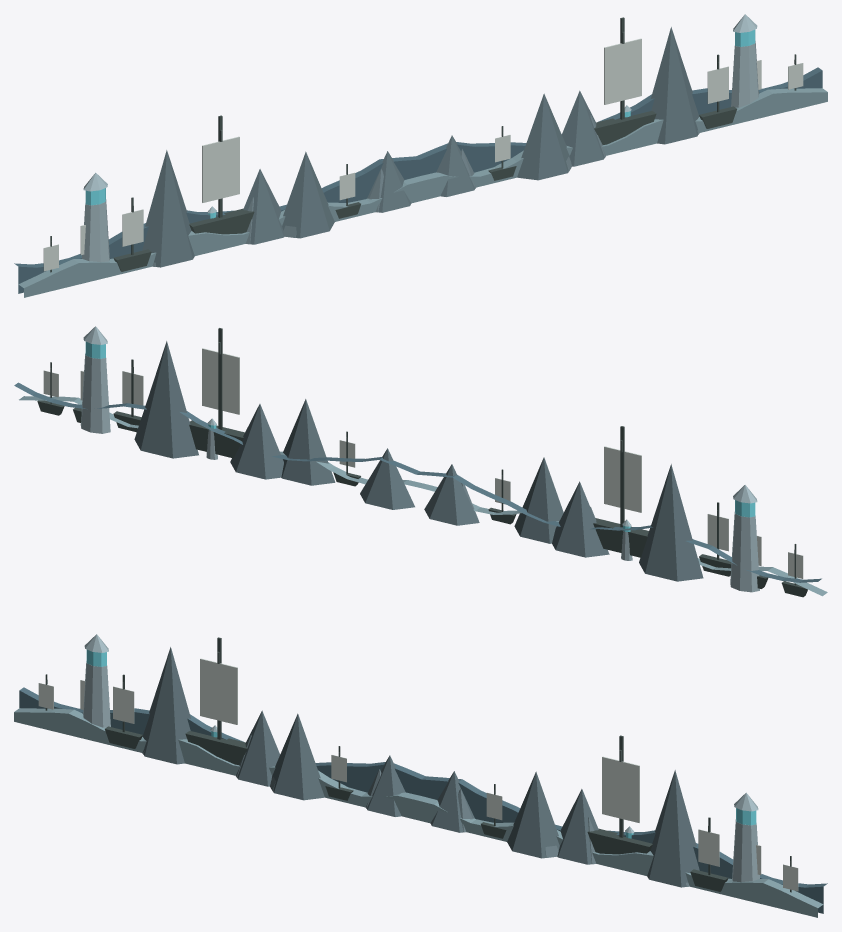
File: backdrop_ghostship.glb
3 renders of one model, top to bottom at view 1: azimuth 30°, elevation 25°; view 2: azimuth 150°, elevation 25°; view 3: azimuth 330°, elevation 25°, orthographic.
Visible parts, largest first — view 1: backdrop_ghostship; view 2: backdrop_ghostship; view 3: backdrop_ghostship.
Part boxes in pixels (bbox=[...]): backdrop_ghostship: bbox=[14, 14, 827, 297]; backdrop_ghostship: bbox=[14, 326, 827, 597]; backdrop_ghostship: bbox=[14, 634, 827, 917].
Size of the model in its own units: 260 by 40 by 14.
Materials: 1 (1 with a texture image).
